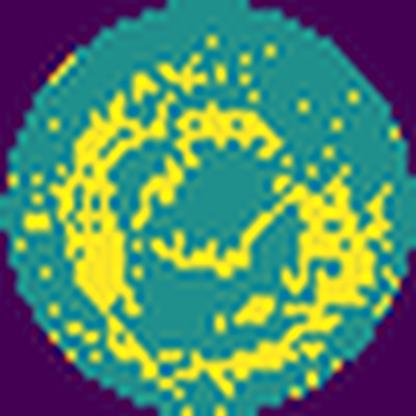Donut: (47, 29, 399, 400)
